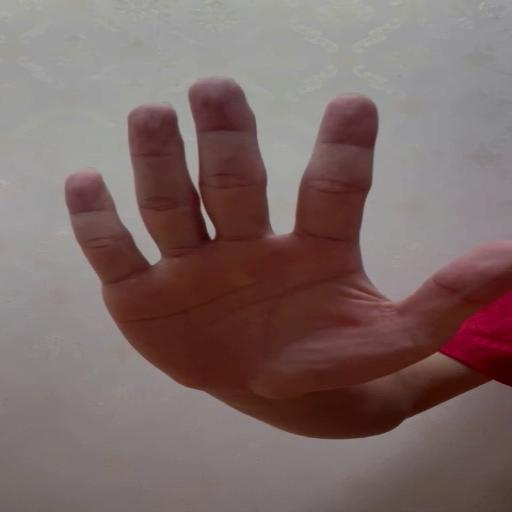open_palm: (63, 76, 512, 397)
